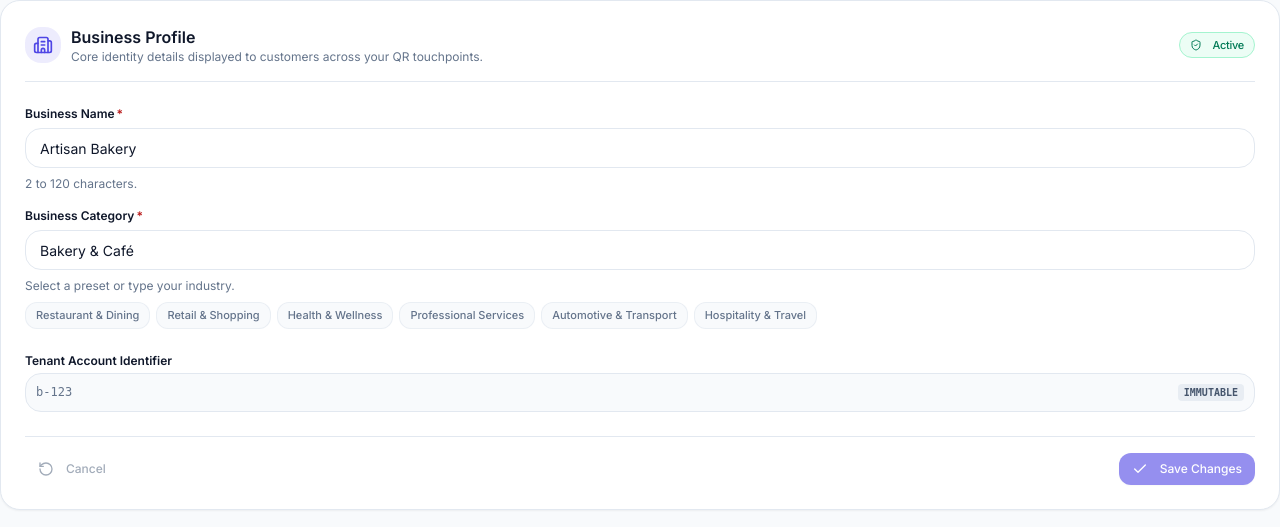
Scenario: BusinessProfileForm Component › restores initial values on Cancel click
The image size is (1280, 527).
Step 1. Replace the text in the field labelled "Business Name*" with "Changed Name" → (640, 148), box [25, 128, 1255, 168]
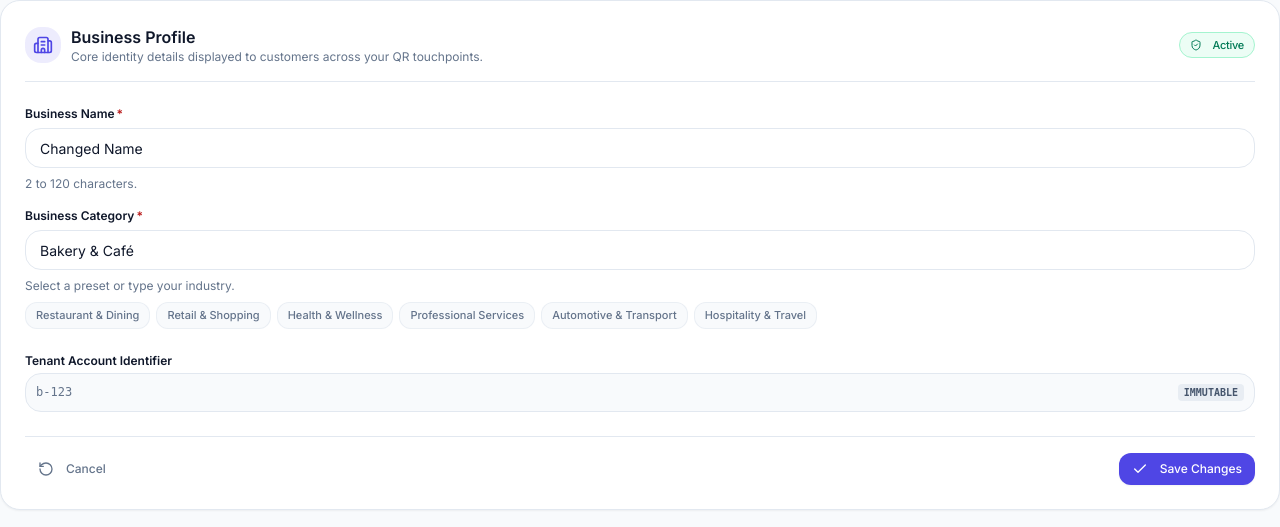
Step 2. Click the button "Cancel" → (72, 469), box [25, 453, 119, 485]
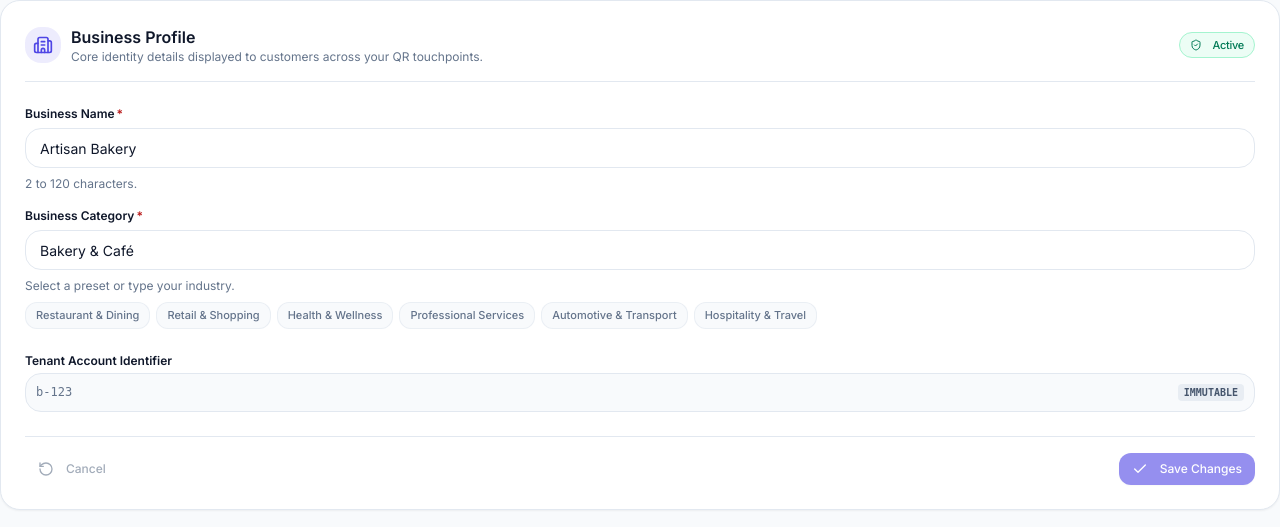
expect the field labelled "Business Name*" holds "Artisan Bakery": met, box [25, 128, 1255, 168]
expect the button "Cancel" is disabled: met, box [25, 453, 119, 485]
